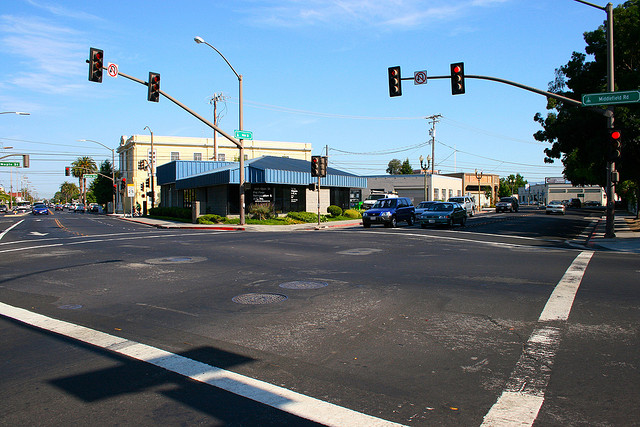Car: (364, 192, 416, 231), (427, 201, 469, 232)
Traffic Light: (90, 45, 105, 88), (449, 60, 467, 95), (146, 70, 161, 109), (311, 154, 322, 178)
